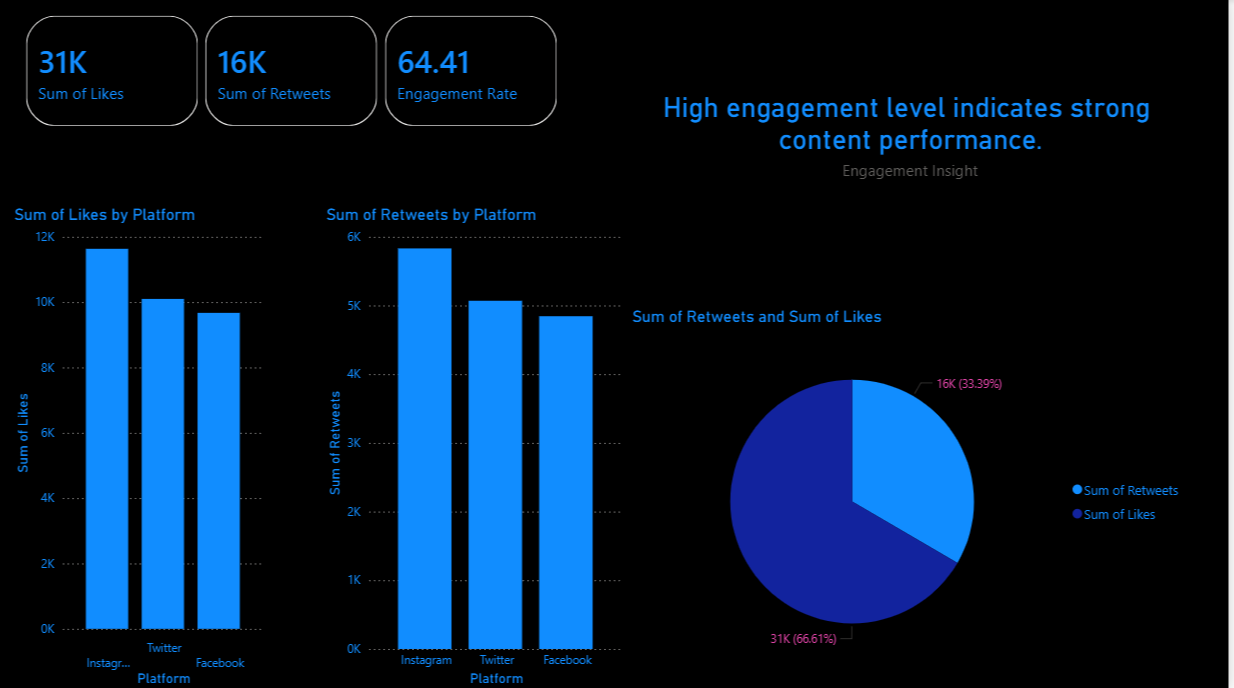

Layout of this report page (visuals, bound fields, positions):
{"tool":"powerbi","page":{"name":"Engagement Analysis","canvas":[1280,720],"ordinal":2},"visuals":[{"type":"cardVisual","fields":{"Data":["Sum(3) Sentiment dataset.Likes)","Sum(3) Sentiment dataset.Retweets)","3) Sentiment dataset.Engagement Rate"]},"box":[9.5,0,588.5,149.5],"z":0},{"type":"clusteredColumnChart","fields":{"Category":["3) Sentiment dataset.Platform"],"Y":["Sum(3) Sentiment dataset.Likes)"]},"box":[9.5,214.7,270.4,505.8],"z":1000},{"type":"clusteredColumnChart","fields":{"Category":["3) Sentiment dataset.Platform"],"Y":["Sum(3) Sentiment dataset.Retweets)"]},"box":[334,214.7,319.7,505.8],"z":2000},{"type":"pieChart","fields":{"Y":["Sum(3) Sentiment dataset.Retweets)","Sum(3) Sentiment dataset.Likes)"]},"box":[653.7,319.7,588.5,386.5],"z":3000},{"type":"card","fields":{"Values":["3) Sentiment dataset.Engagement Insight"]},"box":[653.7,0,588.5,275.2],"z":4000}]}

Visuals, with their boxes in screenshot pixels (x1, y1, x2, y2), scaled from the page's 1280x720 canvas onto the 1234x688 screenshot:
cardVisual - Sum(3) Sentiment dataset.Likes) x Sum(3) Sentiment dataset.Retweets): left=9, top=0, right=577, bottom=143
clusteredColumnChart - 3) Sentiment dataset.Platform x Sum(3) Sentiment dataset.Likes): left=9, top=205, right=270, bottom=687
clusteredColumnChart - 3) Sentiment dataset.Platform x Sum(3) Sentiment dataset.Retweets): left=322, top=205, right=630, bottom=687
pieChart - Sum(3) Sentiment dataset.Retweets) x Sum(3) Sentiment dataset.Likes): left=630, top=305, right=1198, bottom=675
card - 3) Sentiment dataset.Engagement Insight: left=630, top=0, right=1198, bottom=263
